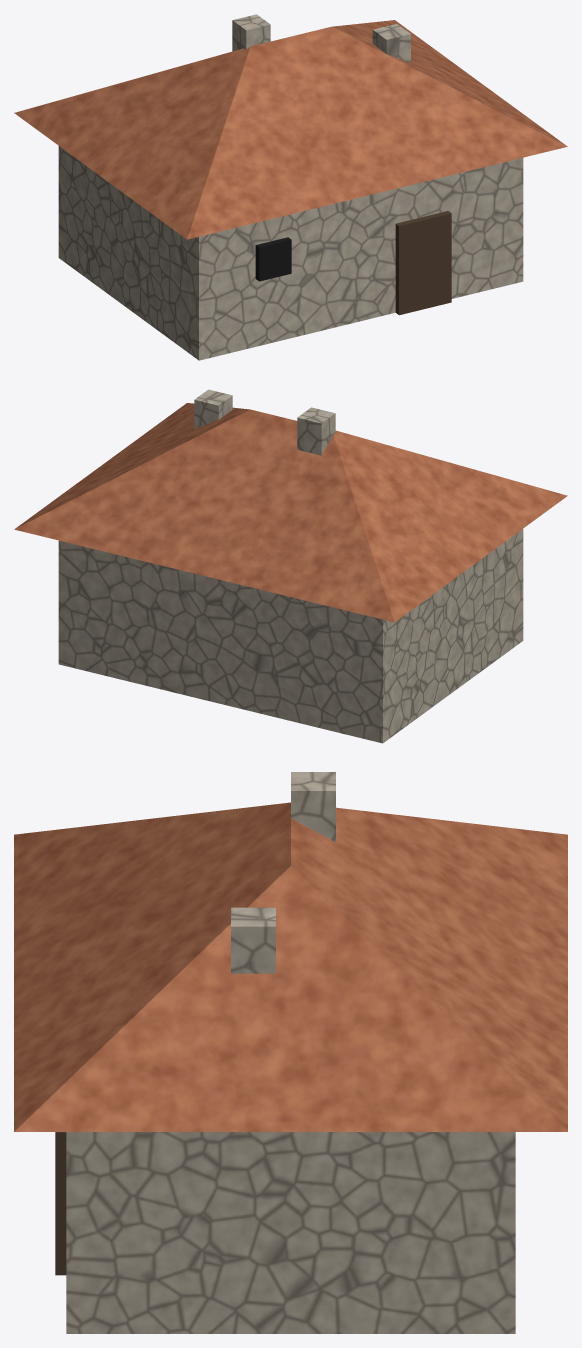
The model's file is house_01.glb.
3 views of the same model, one above another, from view 1: azimuth 30°, elevation 25°; view 2: azimuth 150°, elevation 25°; view 3: azimuth 270°, elevation 25° (orthographic). The views are drawn at different scales.
Parts seen in each view (by area): view 1: house_01; view 2: house_01; view 3: house_01.
Part boxes in pixels (x1,y1,x2,y2): house_01: [14, 14, 567, 360]; house_01: [14, 389, 567, 743]; house_01: [14, 772, 567, 1333].
Size of the model in its own units: 9.4 by 5.9 by 7.4.
Materials: 1 (1 with a texture image).
